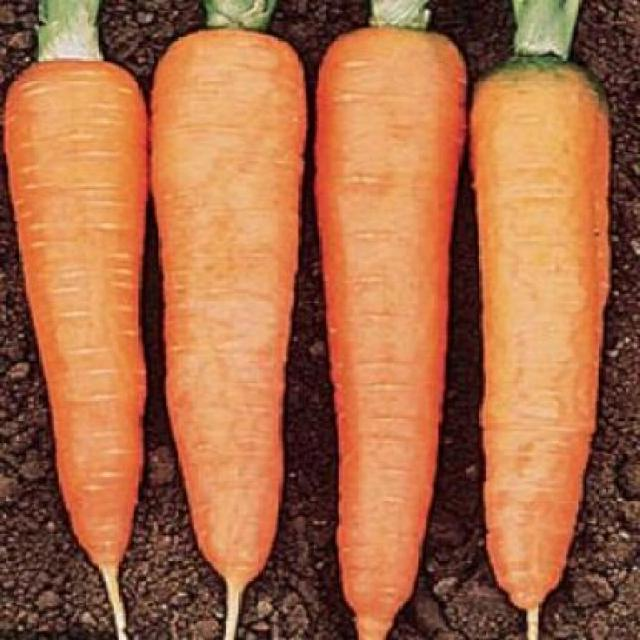carrot: (308, 31, 471, 637), (148, 29, 312, 610), (460, 53, 626, 624), (5, 51, 149, 608)
